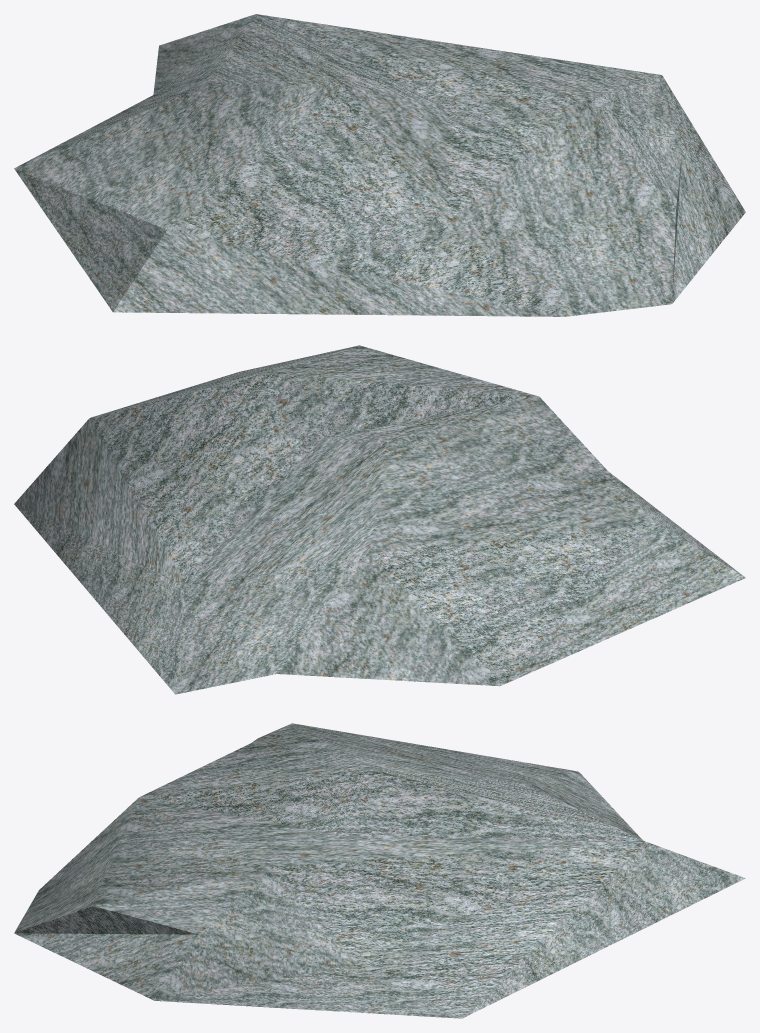
Rendered from rock_graniteslab_large_a1_l3.fbx.
The picture shows the model from 3 angles, top to bottom: view 1: azimuth 30°, elevation 25°; view 2: azimuth 150°, elevation 25°; view 3: azimuth 270°, elevation 25°; orthographic projection. The views are drawn at different scales.
Visible parts, largest first — view 1: mesh_node; view 2: mesh_node; view 3: mesh_node.
Part boxes in pixels (x1,y1,x2,y2): mesh_node: [14, 14, 745, 316]; mesh_node: [14, 345, 745, 694]; mesh_node: [14, 723, 745, 1018].
Size of the model in its own units: 4.18 by 0.7089 by 4.58.
